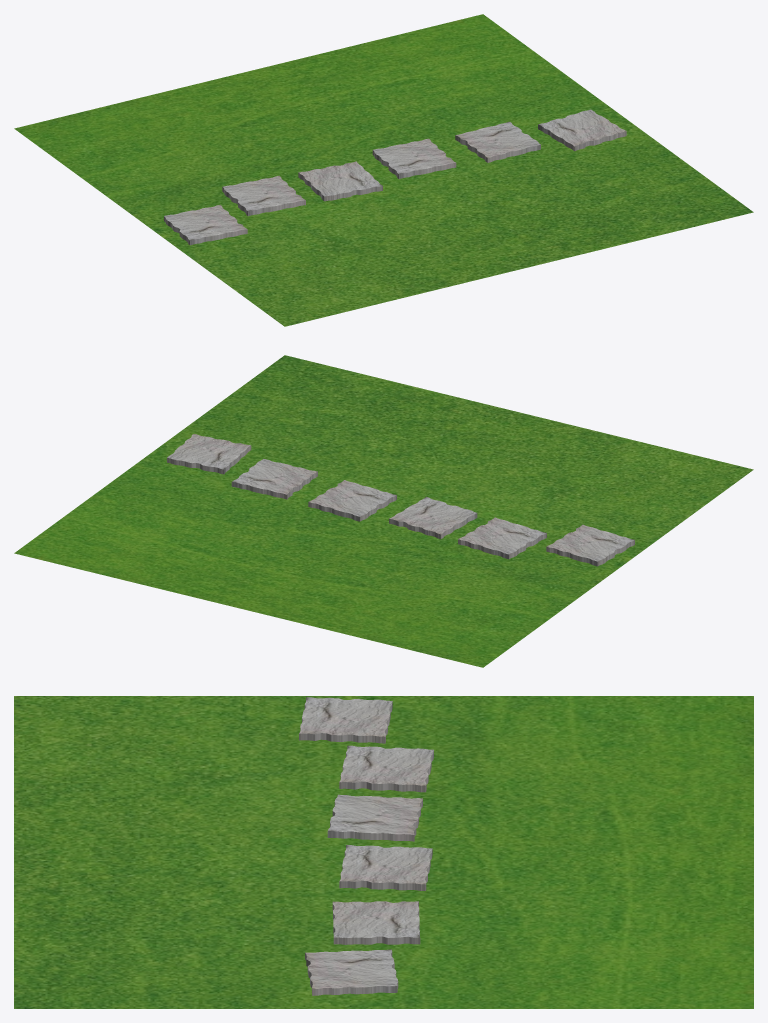
Rendered from pathEastWest.glb.
3 views of the same model, one above another, from view 1: azimuth 30°, elevation 25°; view 2: azimuth 150°, elevation 25°; view 3: azimuth 270°, elevation 25° (orthographic). The views are drawn at different scales.
Visible parts, largest first — view 1: Plane, Plane.007, Plane.004, Plane.003, Plane.001, Plane.005, Plane.006; view 2: Plane, Plane.003, Plane.004, Plane.001, Plane.005, Plane.007, Plane.006; view 3: Plane, Plane.003, Plane.004, Plane.007, Plane.005, Plane.001, Plane.006.
Part boxes in pixels (bbox=[...]): Plane: bbox=[14, 14, 753, 326]; Plane.007: bbox=[538, 109, 626, 151]; Plane.004: bbox=[298, 161, 382, 201]; Plane.003: bbox=[222, 175, 305, 216]; Plane.001: bbox=[164, 205, 247, 245]; Plane.005: bbox=[372, 138, 456, 178]; Plane.006: bbox=[455, 121, 540, 162]; Plane: bbox=[14, 355, 753, 667]; Plane.003: bbox=[458, 517, 546, 559]; Plane.004: bbox=[389, 497, 477, 539]; Plane.001: bbox=[546, 524, 634, 566]; Plane.005: bbox=[308, 480, 396, 521]; Plane.007: bbox=[167, 434, 251, 474]; Plane.006: bbox=[231, 459, 317, 499]; Plane: bbox=[14, 696, 753, 1008]; Plane.003: bbox=[339, 745, 433, 792]; Plane.004: bbox=[327, 794, 422, 841]; Plane.007: bbox=[305, 949, 398, 995]; Plane.005: bbox=[339, 845, 432, 890]; Plane.001: bbox=[299, 697, 392, 743]; Plane.006: bbox=[332, 901, 420, 944].
Bounding box in the file's own units: 1 × 0.0123 × 1.
Materials: 2 (2 with a texture image).
